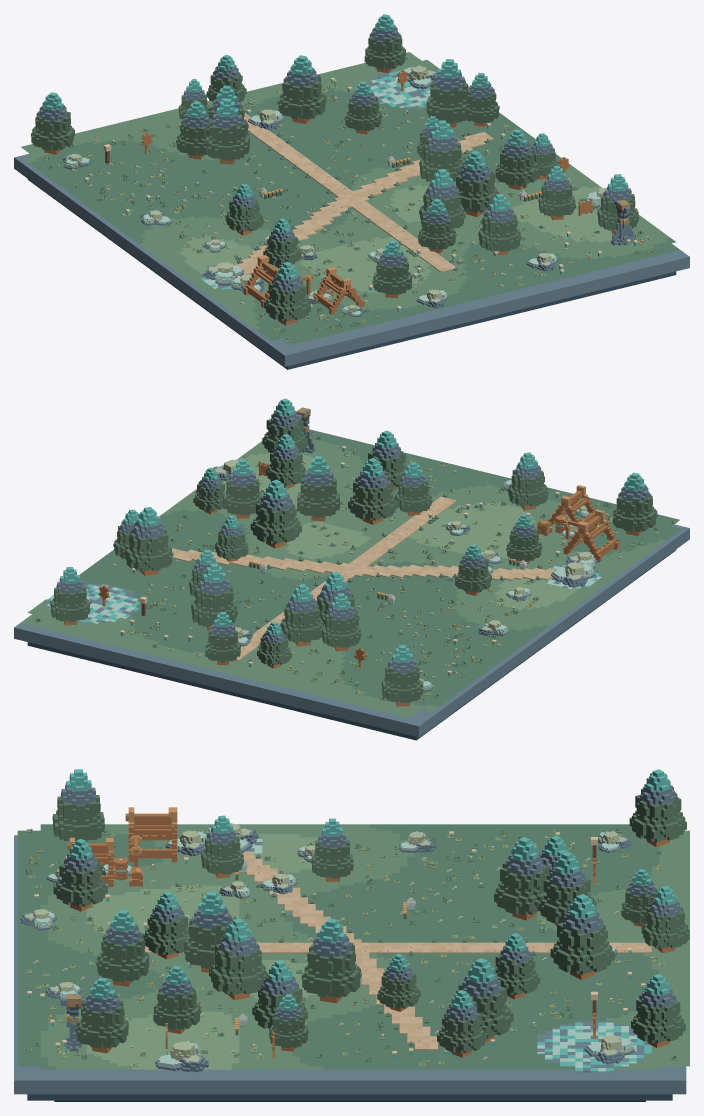
File: survival_polluted.glb
3 views of the same model, one above another, from view 1: azimuth 30°, elevation 25°; view 2: azimuth 150°, elevation 25°; view 3: azimuth 270°, elevation 25° (orthographic). The views are drawn at different scales.
Parts seen in each view (by area): view 1: survival_ground, survival_occluders; view 2: survival_ground, survival_occluders; view 3: survival_ground, survival_occluders.
Boxes of the visible parts, bbox=[...] form: survival_ground: bbox=[14, 52, 689, 369]; survival_occluders: bbox=[31, 14, 638, 325]; survival_ground: bbox=[14, 429, 689, 740]; survival_occluders: bbox=[50, 398, 657, 706]; survival_ground: bbox=[14, 824, 689, 1101]; survival_occluders: bbox=[52, 769, 689, 1071].
Bounding box in the file's own units: 38.46 × 8.97 × 44.25.
